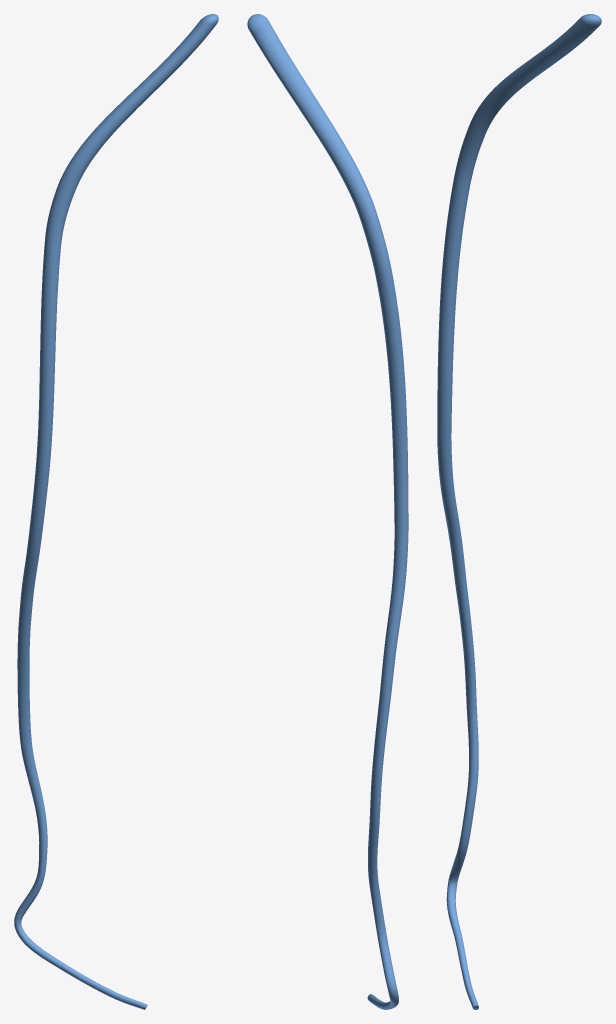
3 views of the same model, side by side, from view 1: azimuth 30°, elevation 25°; view 2: azimuth 150°, elevation 25°; view 3: azimuth 330°, elevation 25° (orthographic). The views are drawn at different scales.
Parts seen in each view (by area): view 1: BP5847_left_posterior_tibial_vein; view 2: BP5847_left_posterior_tibial_vein; view 3: BP5847_left_posterior_tibial_vein.
Part boxes in pixels (left/top/right/bottom): BP5847_left_posterior_tibial_vein: left=14, top=14, right=218, bottom=1009; BP5847_left_posterior_tibial_vein: left=247, top=14, right=408, bottom=1009; BP5847_left_posterior_tibial_vein: left=437, top=14, right=601, bottom=1009.
Size of the model in its own units: 0.0626 by 0.3295 by 0.0387.
